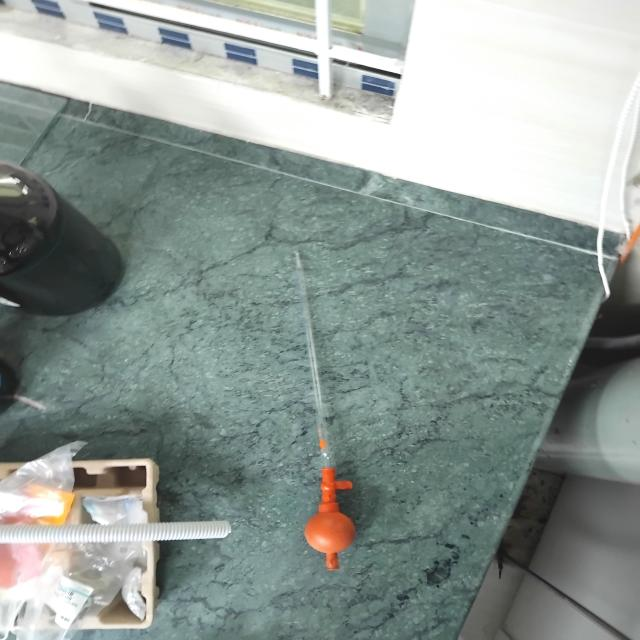Volumetric_Pipet: (271, 244, 399, 575)
